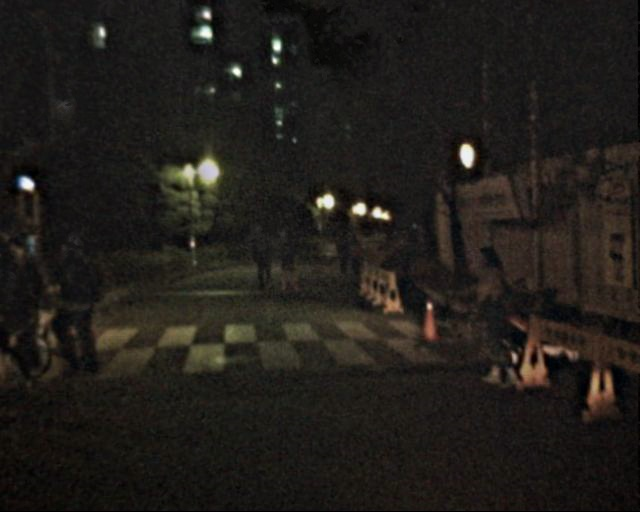person: (464, 246, 526, 397), (51, 227, 109, 369), (245, 220, 275, 293), (270, 226, 297, 293), (329, 227, 351, 280), (343, 229, 362, 276)
